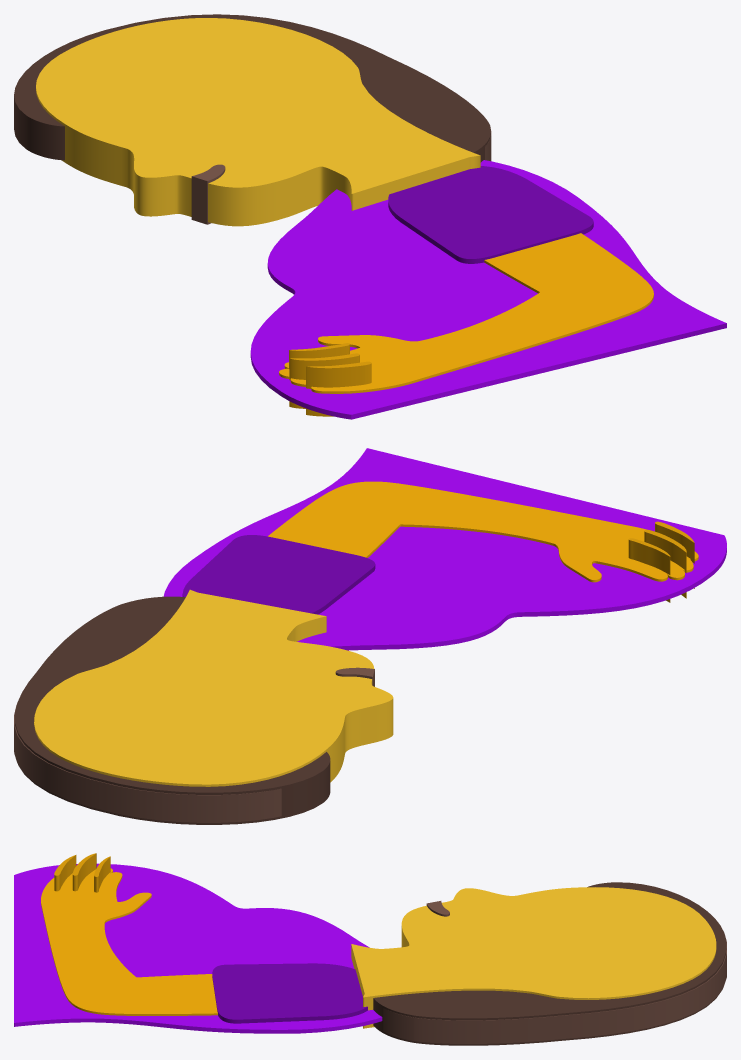
Rendered from emoji_u1f930.glb.
3 renders of one model, top to bottom at view 1: azimuth 30°, elevation 25°; view 2: azimuth 150°, elevation 25°; view 3: azimuth 270°, elevation 25°, orthographic. The views are drawn at different scales.
Visible parts, largest first — view 1: emoji_u1f930; view 2: emoji_u1f930; view 3: emoji_u1f930.
Part boxes in pixels (box(x1,y1,x2,y2)): emoji_u1f930: box(14, 14, 726, 419); emoji_u1f930: box(14, 448, 726, 824); emoji_u1f930: box(14, 853, 726, 1045).
Bounding box in the file's own units: 0.0183 × 0.002 × 0.0331.
